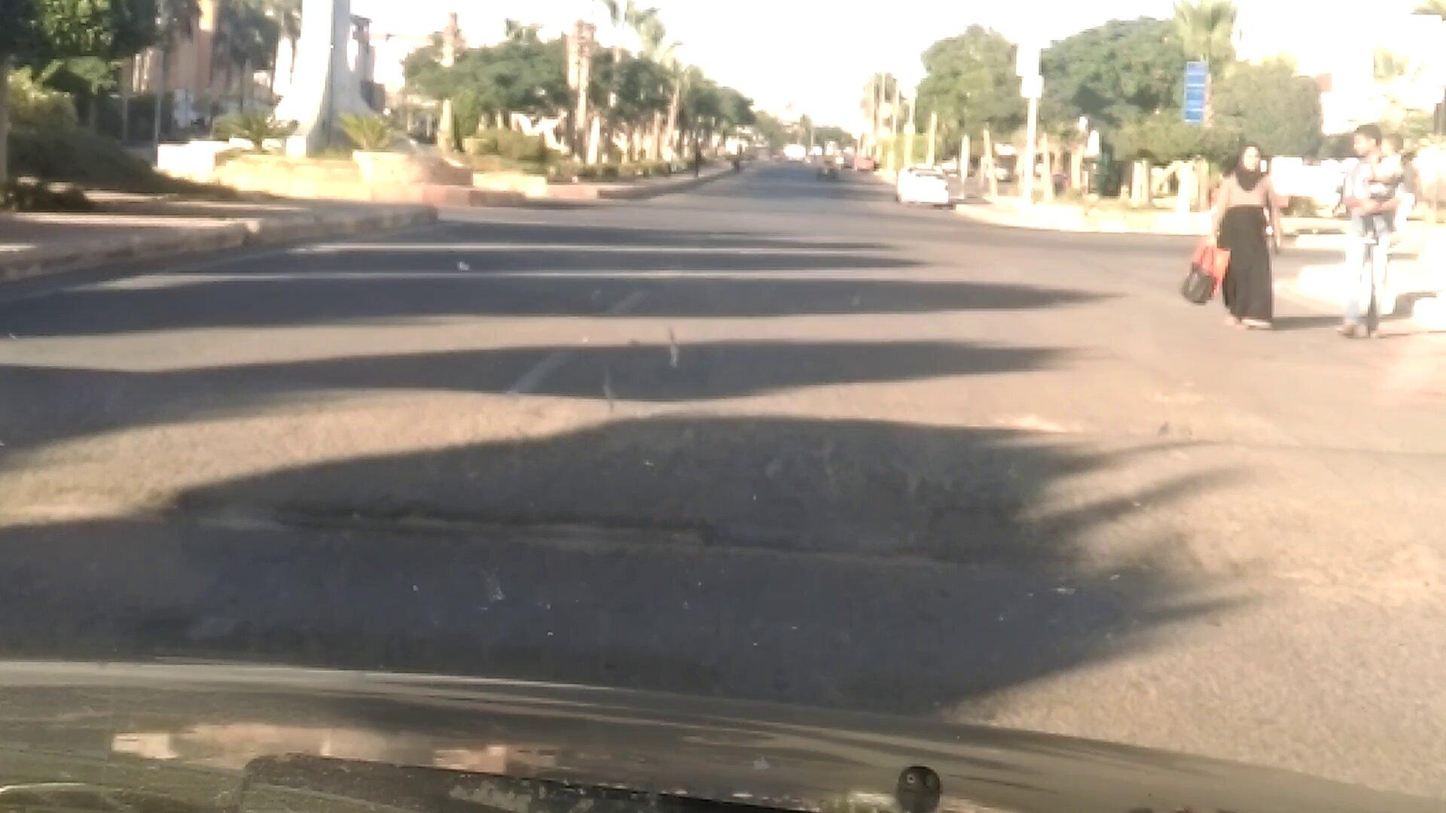Pothole: (218, 484, 1243, 604)
